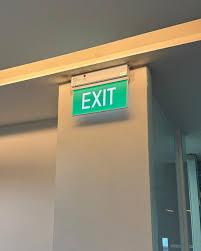lit_exit_sign: (72, 80, 126, 115)
